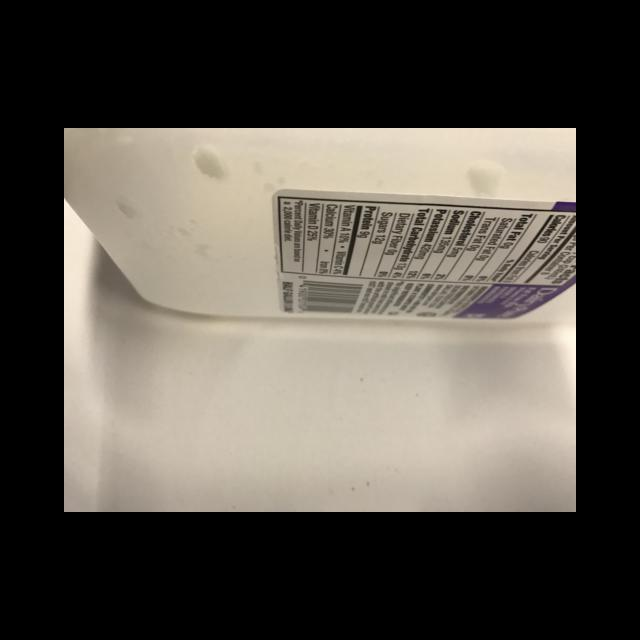plastic: (64, 128, 575, 322)
